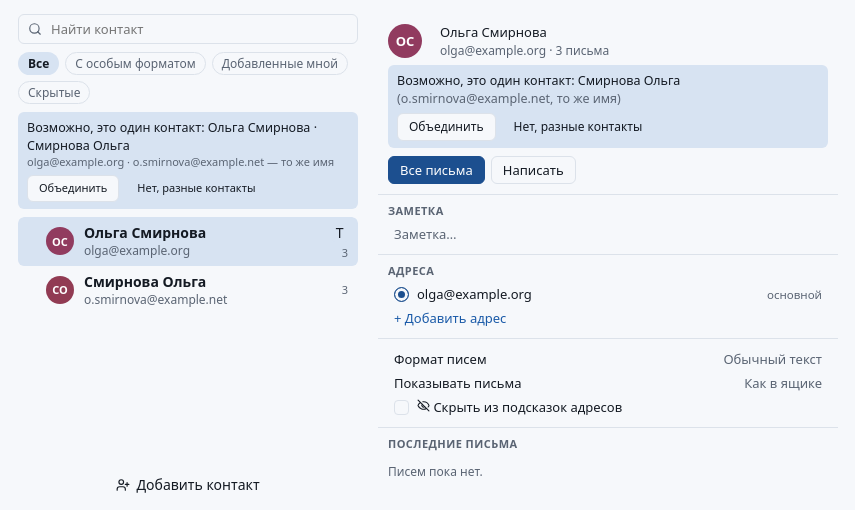
Test case: the list after a merge › does not offer a pair when the other person is filtered out
The image size is (855, 510).
Expected: the element with class "banner" is shown, 18,112 -> 358,209
Click the button with class "fchip" showing "С особым форматом". click: (136, 64)
box: 65,52 -> 206,75
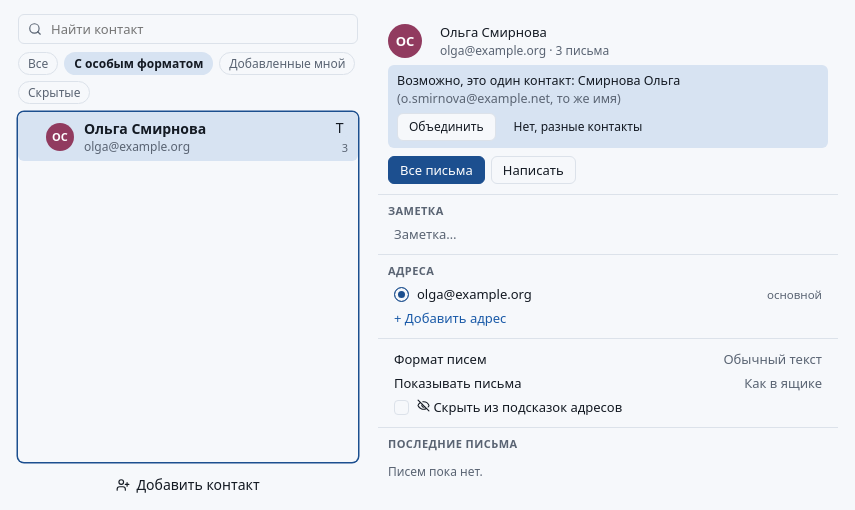
Expected: the element with class "banner" is gone
